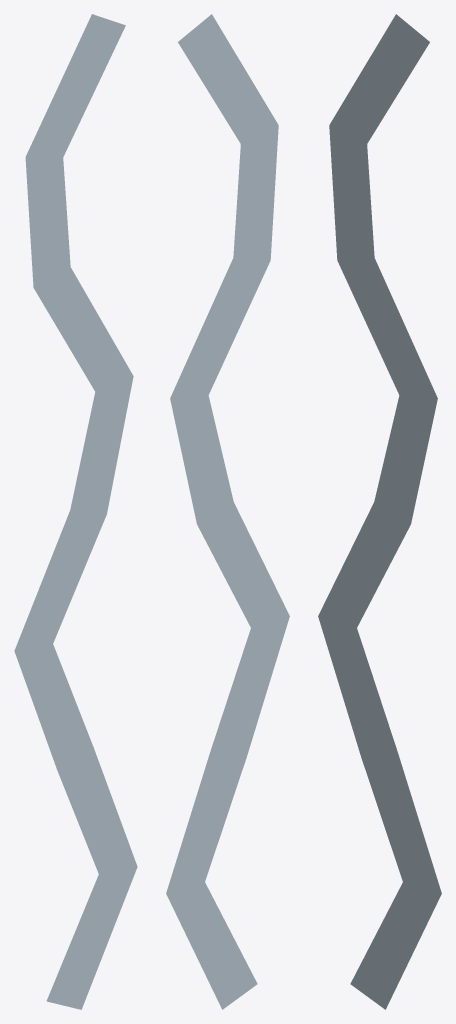
The model's file is 2085_ThunderWave_2Rounds_CosmeticColumn_29_6.fbx.
3 renders of one model, left to right at view 1: azimuth 30°, elevation 25°; view 2: azimuth 210°, elevation 25°; view 3: azimuth 330°, elevation 25°, orthographic.
Parts seen in each view (by area): view 1: PART_CosmeticColumn_29_6; view 2: PART_CosmeticColumn_29_6; view 3: PART_CosmeticColumn_29_6.
Part boxes in pixels (x1,y1,x2,y2): PART_CosmeticColumn_29_6: (14, 14, 137, 1009); PART_CosmeticColumn_29_6: (166, 14, 289, 1009); PART_CosmeticColumn_29_6: (318, 14, 441, 1009).
Bounding box in the file's own units: 15.88 × 122 × 1.99e-05.
